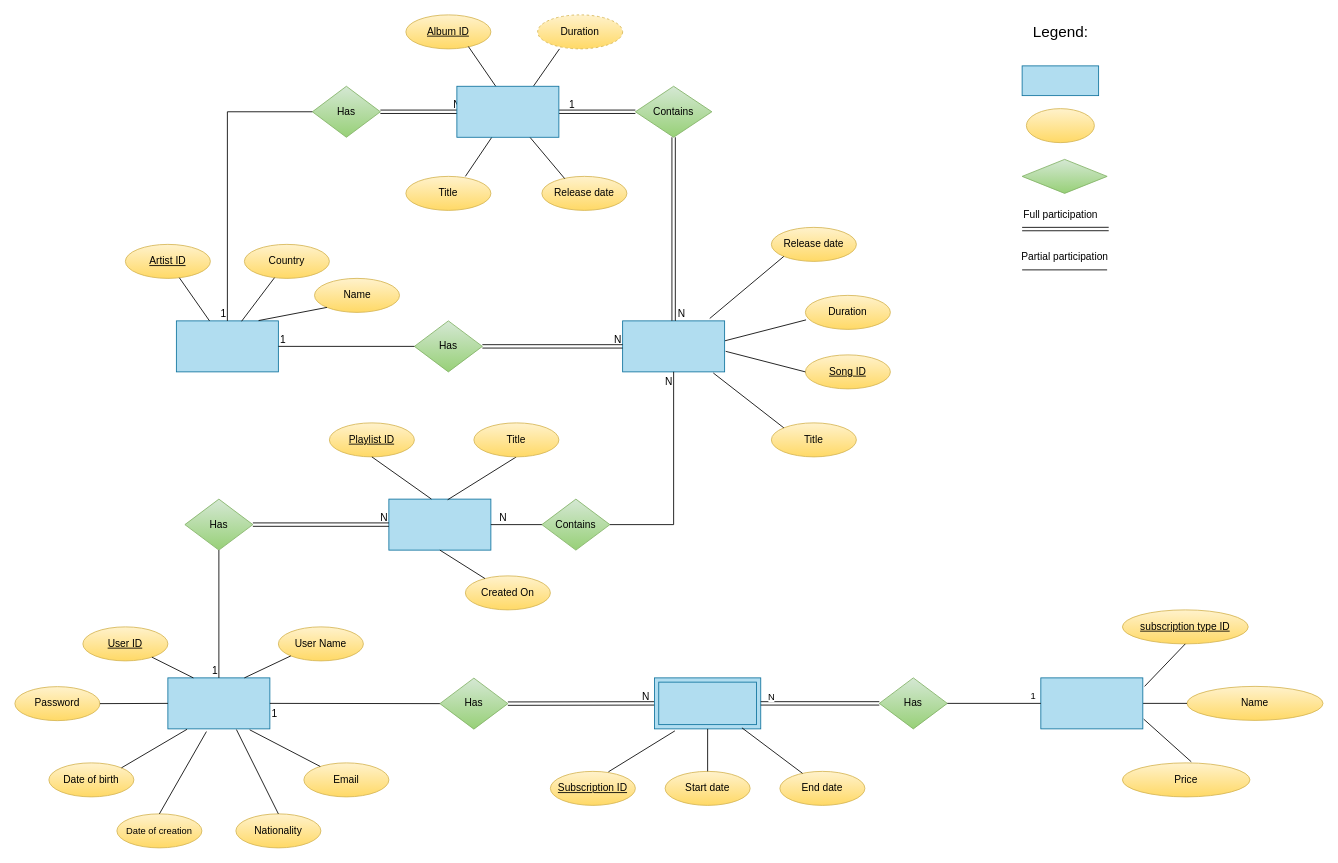
Image size: 1338x863. Some labels were removed from this diagram. Each missing label, with the box of its shape:
Album: (456, 85, 559, 137)
Artist: (176, 320, 278, 372)
Attribute: (1026, 108, 1094, 143)
Entity: (1021, 65, 1099, 96)
Playlist: (388, 498, 491, 550)
Relationship: (1021, 159, 1107, 193)
Song: (622, 320, 725, 372)
Subscription: (654, 677, 761, 729)
Subscription type: (1040, 677, 1143, 729)
User: (167, 677, 270, 729)
